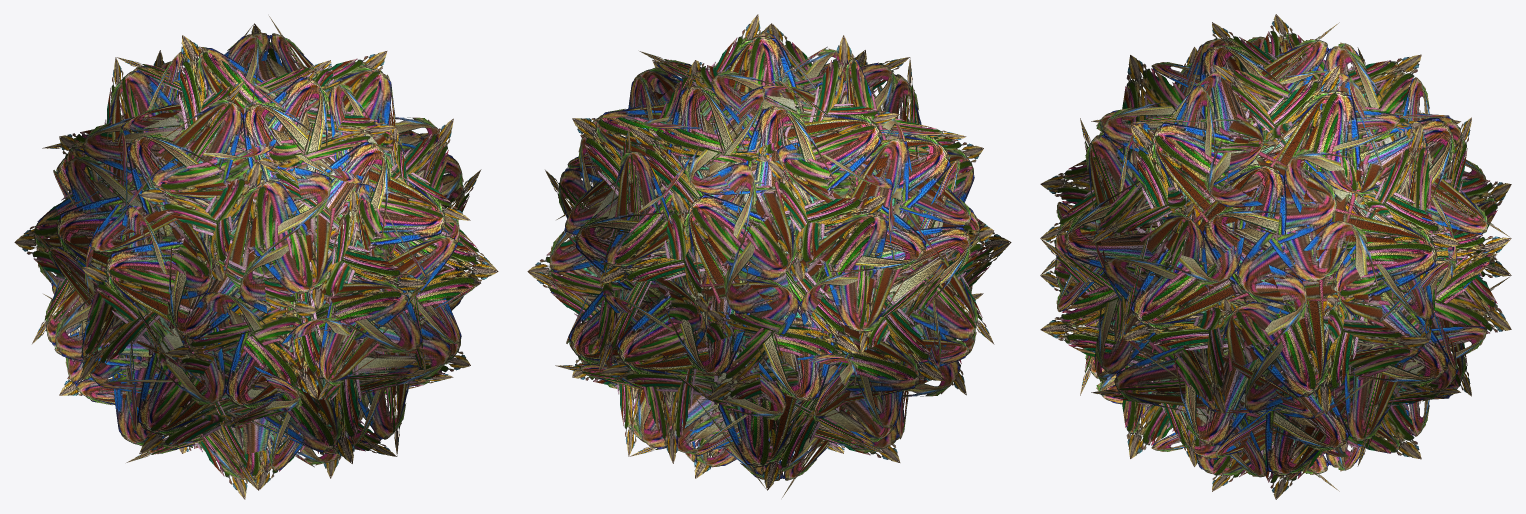
The model's file is GreatSnubDodecicosidodecahedron9.gltf.
The picture shows the model from 3 angles, left to right: view 1: azimuth 30°, elevation 25°; view 2: azimuth 150°, elevation 25°; view 3: azimuth 270°, elevation 25°; orthographic projection. The views are drawn at different scales.
Parts seen in each view (by area): view 1: GreatSnubDodecicosidodecahedron9; view 2: GreatSnubDodecicosidodecahedron9; view 3: GreatSnubDodecicosidodecahedron9.
Part boxes in pixels (x1,y1,x2,y2): GreatSnubDodecicosidodecahedron9: (14, 16, 498, 499); GreatSnubDodecicosidodecahedron9: (527, 14, 1011, 497); GreatSnubDodecicosidodecahedron9: (1040, 14, 1511, 499).
Bounding box in the file's own units: 1.34 × 1.34 × 1.34.
1 material, 1 textured.
